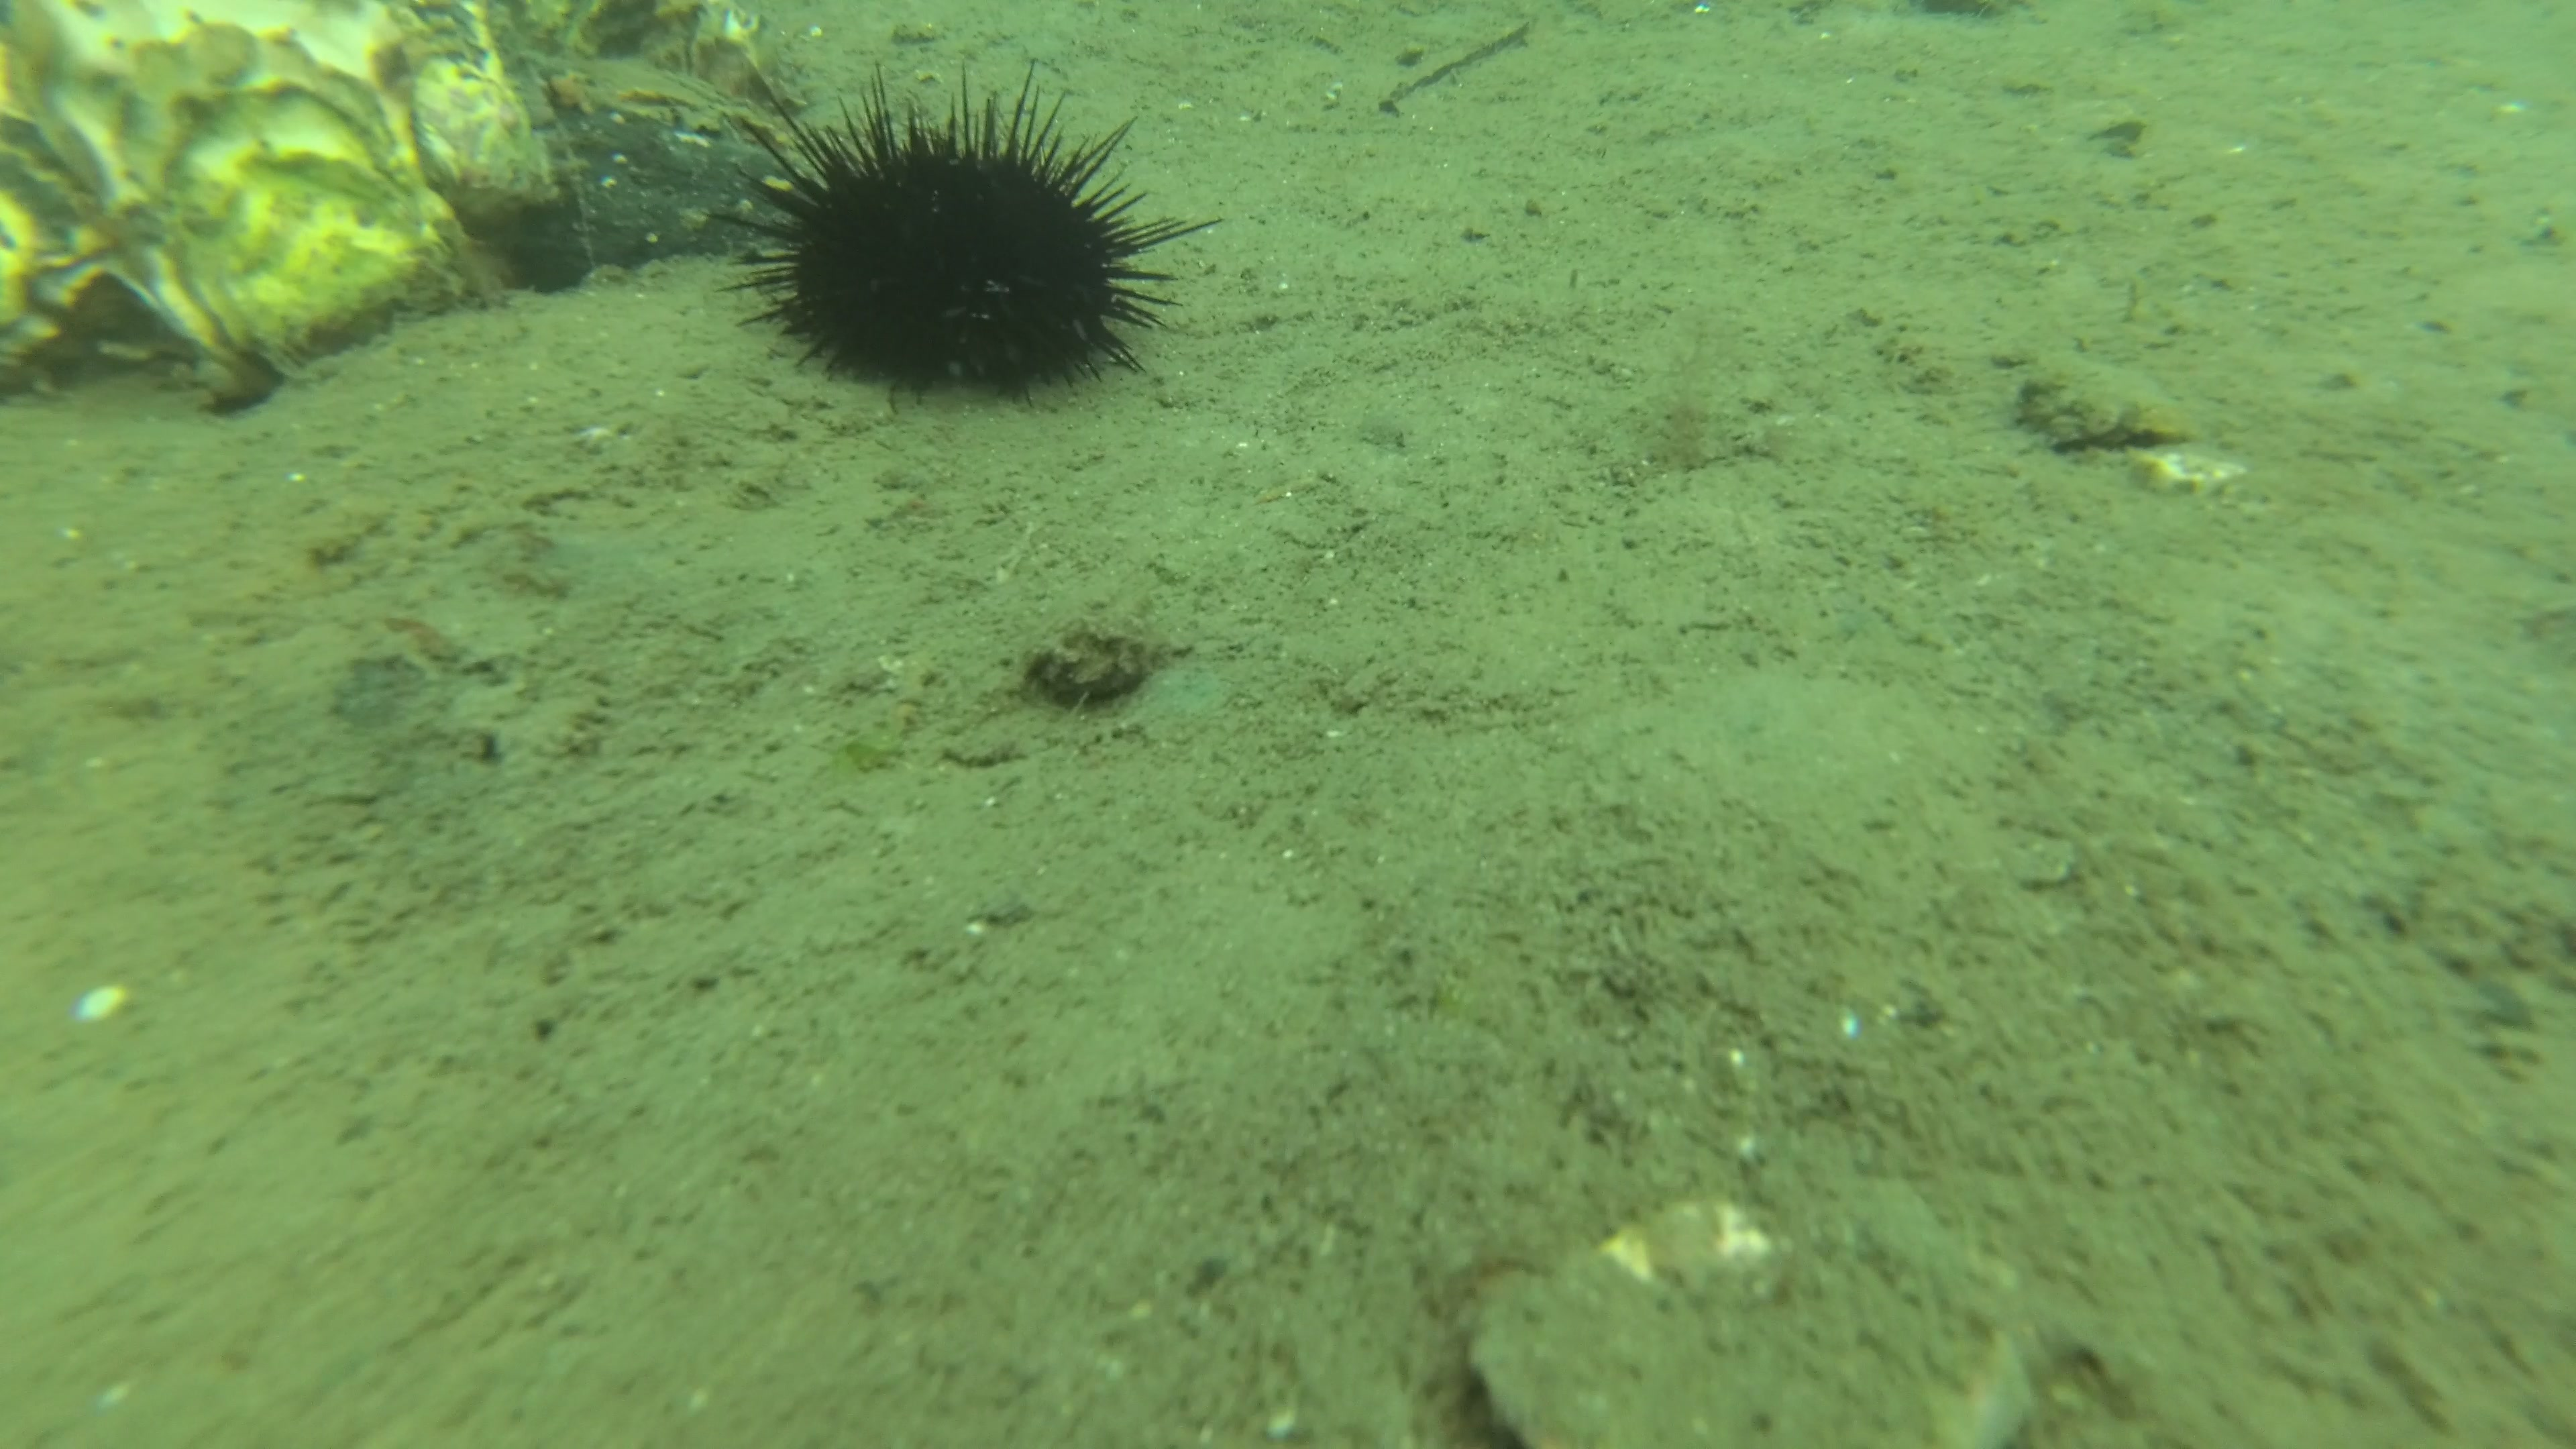echinus: (725, 65, 1215, 419)
